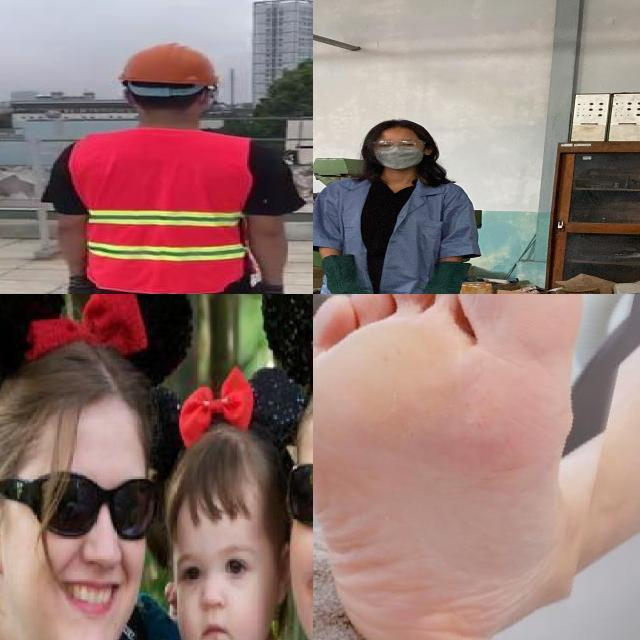Barefoots: (313, 294, 599, 640)
No_Ear-Protection: (0, 474, 10, 577)
face_mask: (368, 137, 430, 169)
face_nomask: (21, 466, 153, 626), (175, 549, 264, 640), (285, 460, 313, 627)
glasses: (20, 468, 163, 543), (280, 457, 313, 546), (370, 138, 428, 151)
hand_glove: (319, 280, 381, 294), (66, 273, 96, 294), (398, 284, 459, 294), (250, 279, 289, 294)
head_helmet: (117, 41, 220, 88)
head_nohelmet: (0, 322, 168, 448), (167, 423, 270, 525), (365, 116, 435, 138)
person: (44, 36, 298, 294), (313, 114, 476, 294)
vest: (68, 129, 252, 291)
